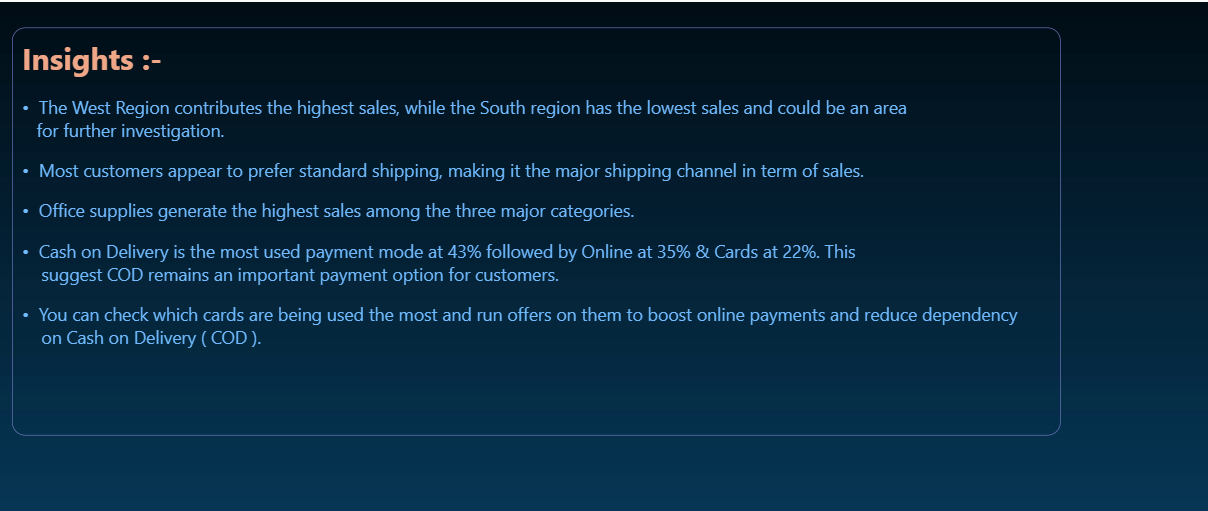

The dashboard page shown, as its layout file describes it:
{"tool":"powerbi","page":{"name":"Insights & Recommendation","canvas":[1280,720],"ordinal":1},"visuals":[{"type":"textbox","box":[12.7,27,1111.8,432.6],"z":0}]}

Visuals, with their boxes on the page's 1280x720 design canvas (x1, y1, x2, y2). These are canvas units, not pixel positions in the 1208x511 screenshot, which may show the page scaled, cropped or inside an application window:
textbox: bbox(13, 27, 1124, 460)
